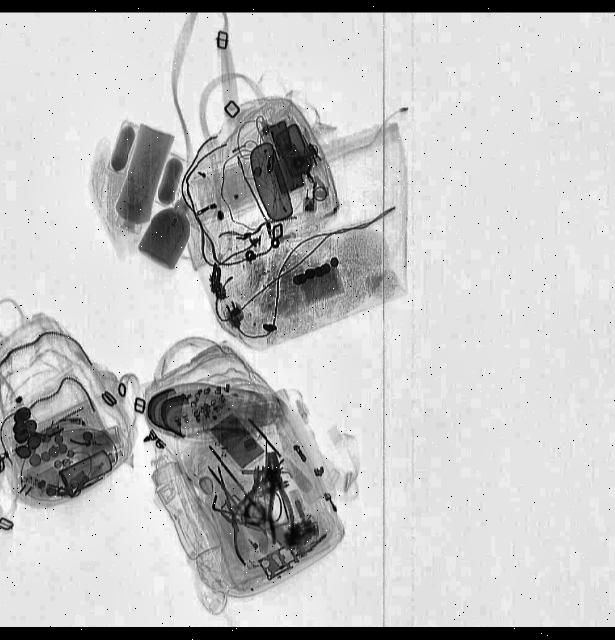Pliers: (207, 491, 276, 568), (258, 450, 297, 542)
